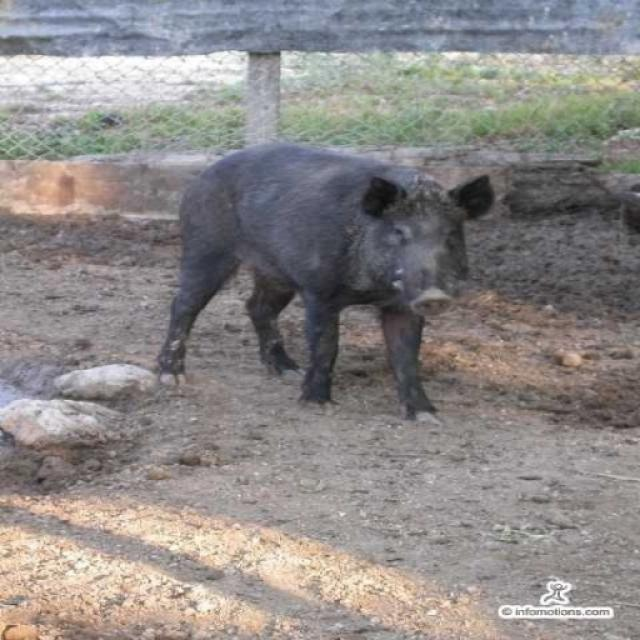pig: (127, 138, 511, 468)
